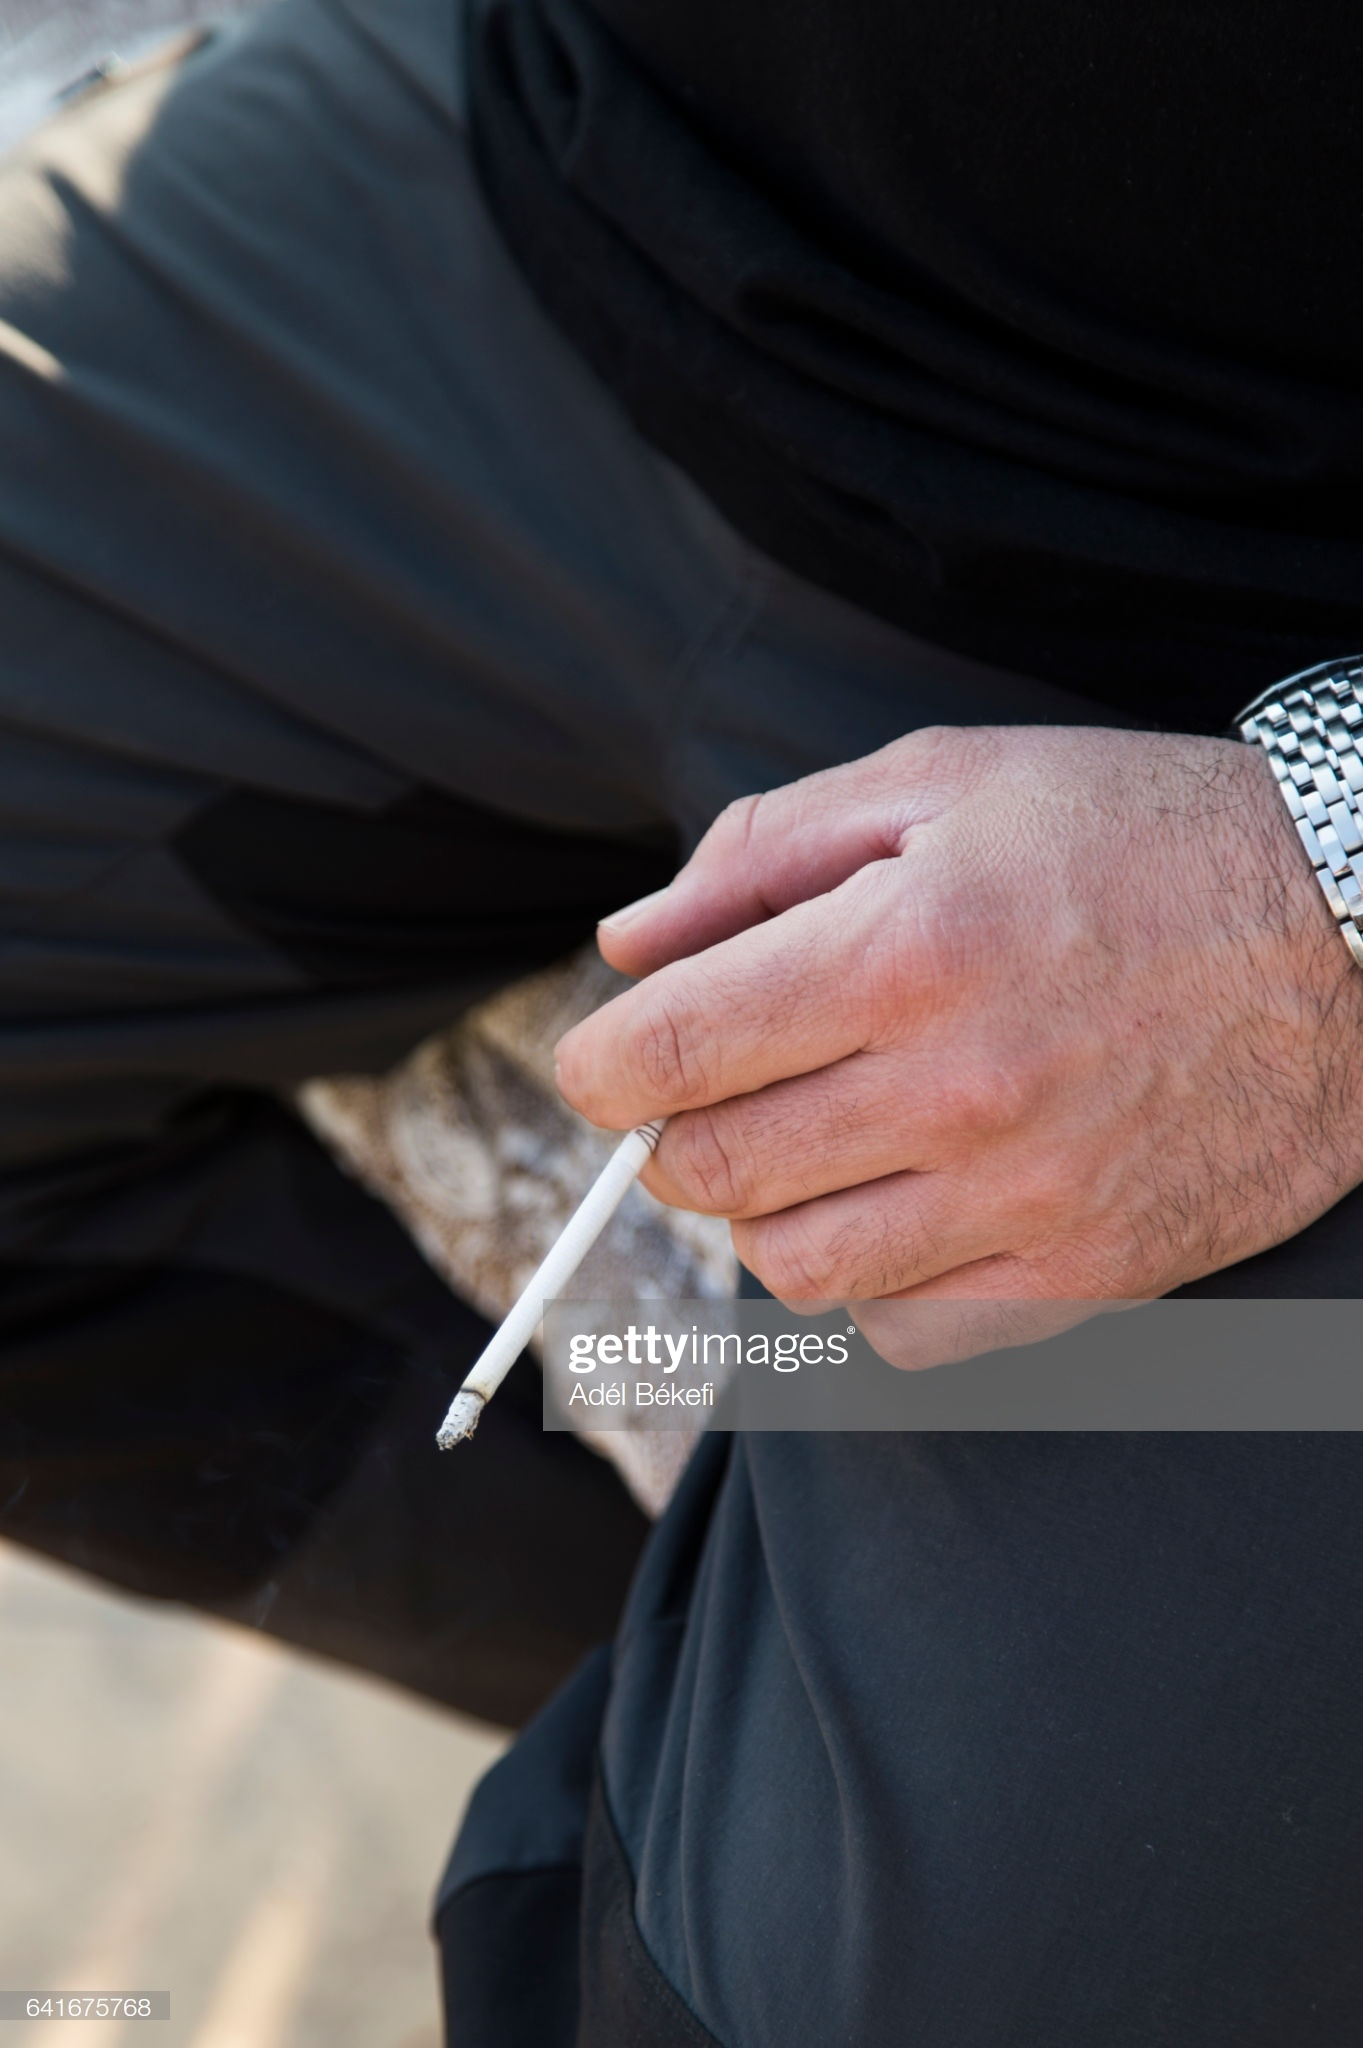sigaretta: (453, 1086, 689, 1429)
